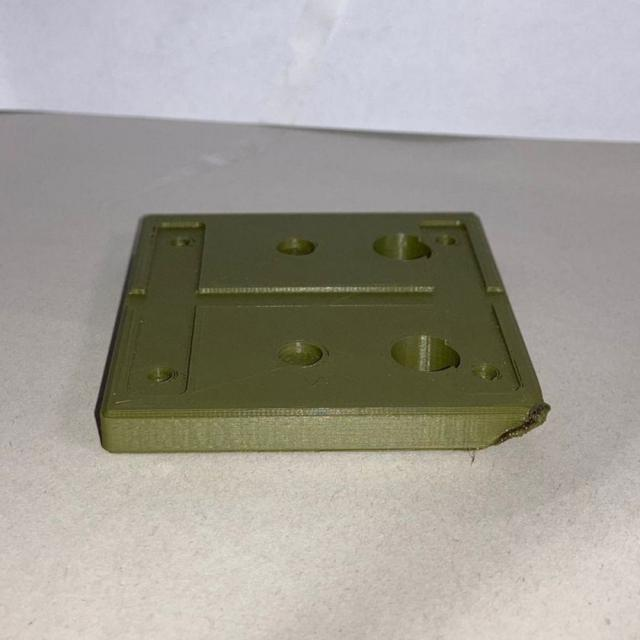Warping: (475, 407, 549, 449)
